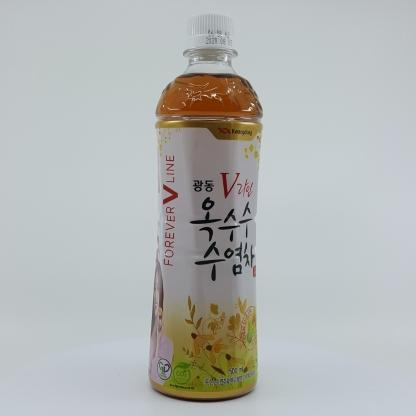---------500ML: (147, 12, 263, 403)
